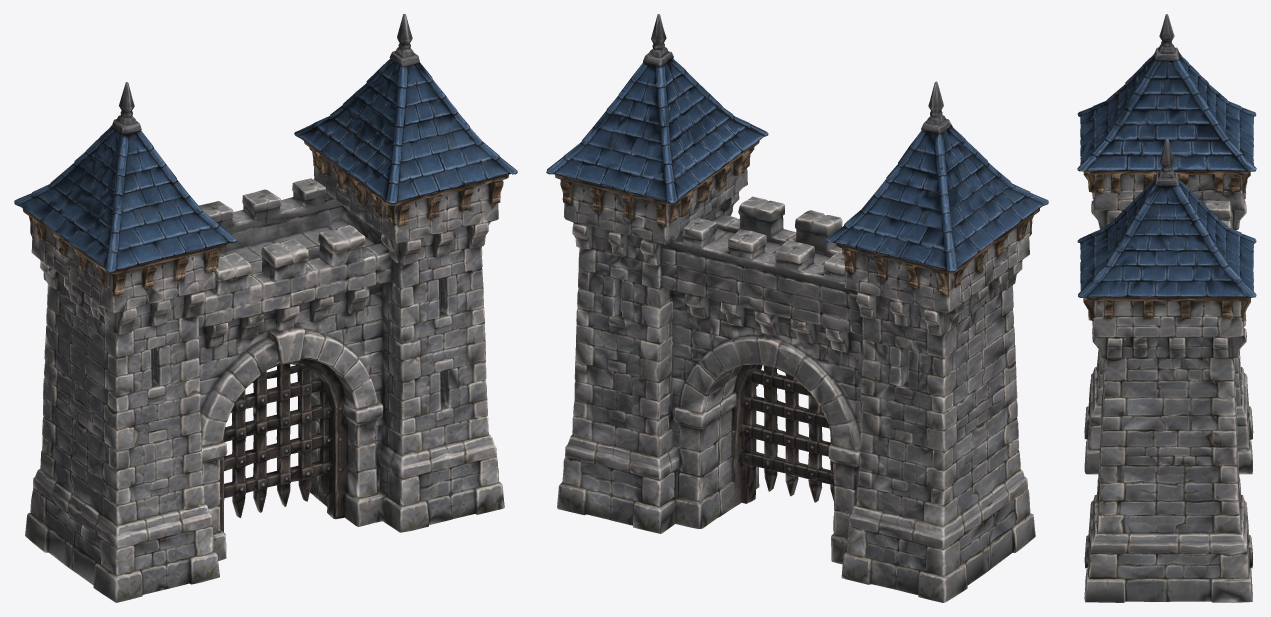
Rendered from fort_m_arctic_gate.glb.
3 views of the same model, side by side, from view 1: azimuth 30°, elevation 25°; view 2: azimuth 150°, elevation 25°; view 3: azimuth 270°, elevation 25° (orthographic). The views are drawn at different scales.
Parts seen in each view (by area): view 1: fort_m_arctic_gate; view 2: fort_m_arctic_gate; view 3: fort_m_arctic_gate.
Part boxes in pixels (x1=…): fort_m_arctic_gate: x1=14, y1=14, x2=517, y2=602; fort_m_arctic_gate: x1=546, y1=14, x2=1048, y2=602; fort_m_arctic_gate: x1=1077, y1=14, x2=1256, y2=602.
Bounding box in the file's own units: 1.72 × 1.9 × 0.7056.
1 material, 1 textured.
